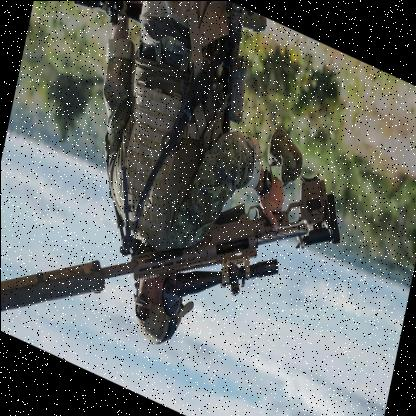rifle: (98, 93, 350, 388)
